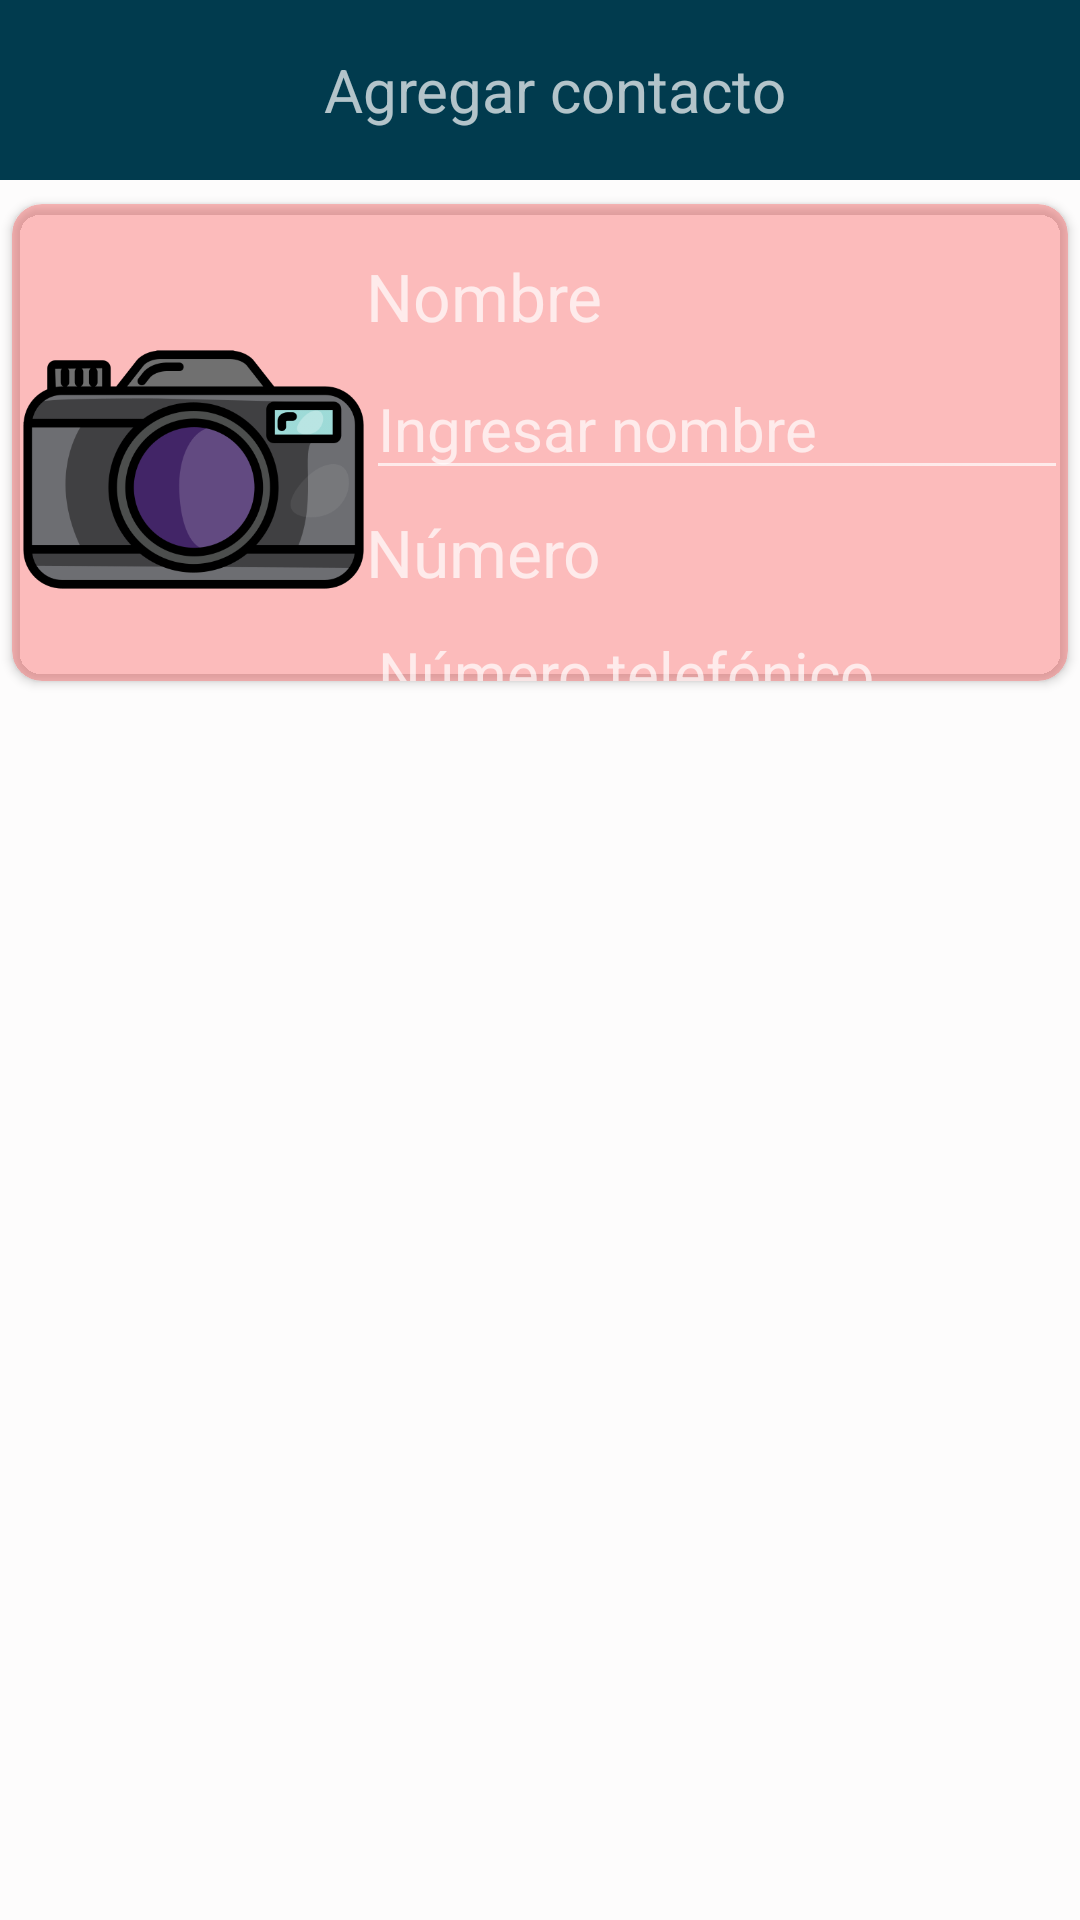

Icons on this 1080×1920 Android screen, each with its box as detection(x1, y1, x2, y2):
camara: detection(23, 350, 364, 589)
